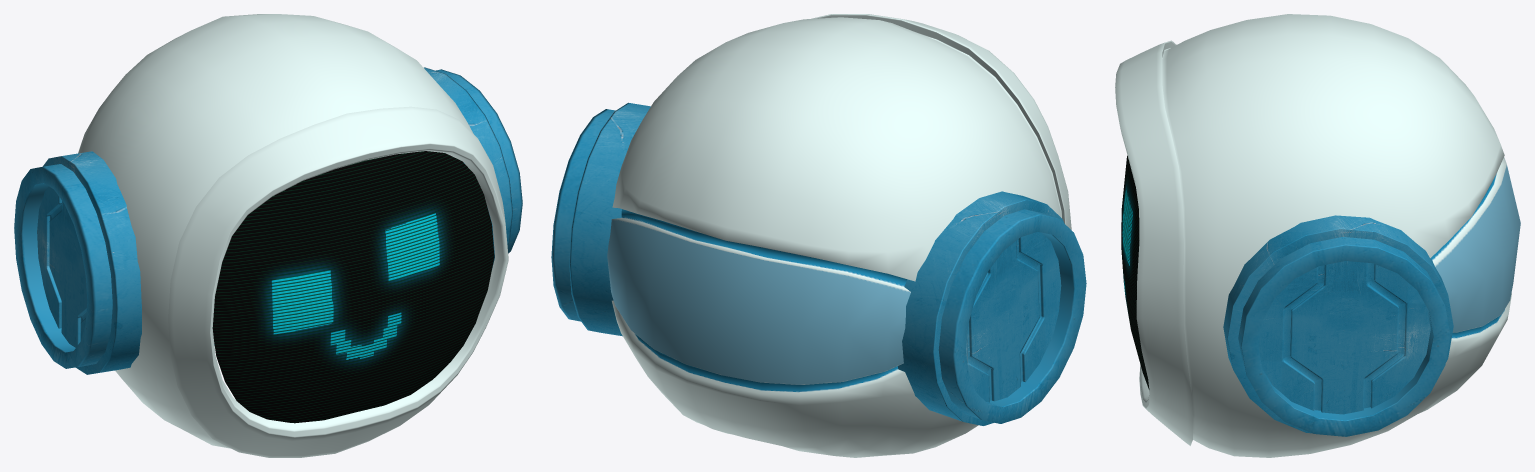
Rendered from head_02.glb.
3 views of the same model, side by side, from view 1: azimuth 30°, elevation 25°; view 2: azimuth 150°, elevation 25°; view 3: azimuth 270°, elevation 25° (orthographic). The views are drawn at different scales.
Visible parts, largest first — view 1: head, mask, ear; view 2: head, ear; view 3: head, ear, mask.
Boxes of the visible parts, box(x1,y1,x2,y2) form: head: box(78, 14, 508, 457); mask: box(212, 151, 494, 423); ear: box(14, 67, 522, 374); head: box(607, 14, 1071, 457); ear: box(551, 102, 1086, 425); head: box(1115, 14, 1520, 457); ear: box(1223, 215, 1453, 436); mask: box(1121, 155, 1149, 389).
Bounding box in the file's own units: 0.0778 × 0.0671 × 0.062.
Materials: 2 (2 with a texture image).
